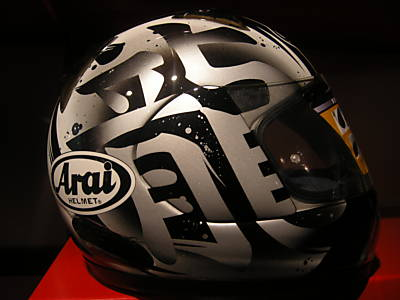helmet: (42, 35, 371, 273)
